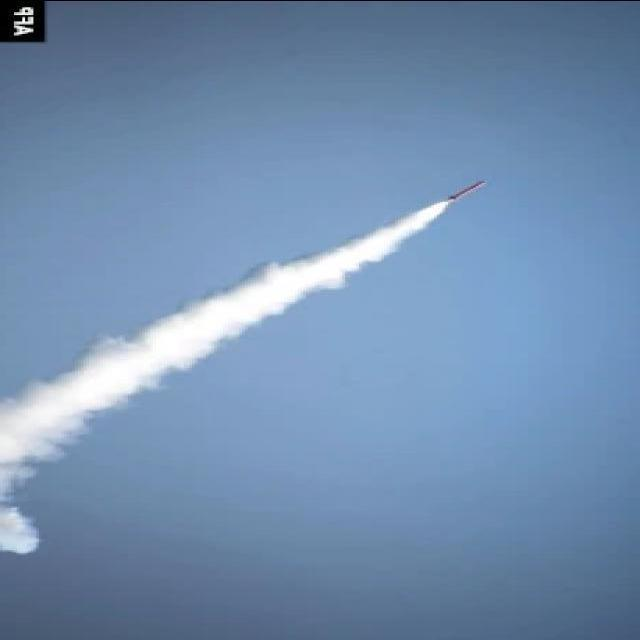Missile: (436, 179, 494, 202)
